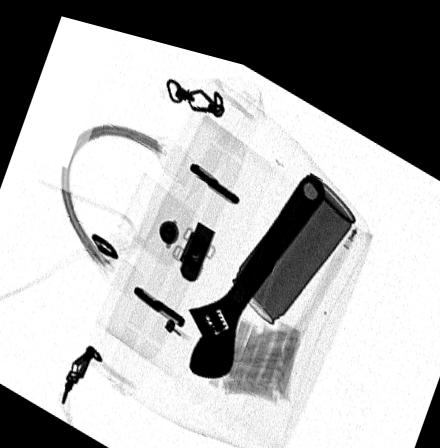Wrench: (187, 155, 327, 368)
